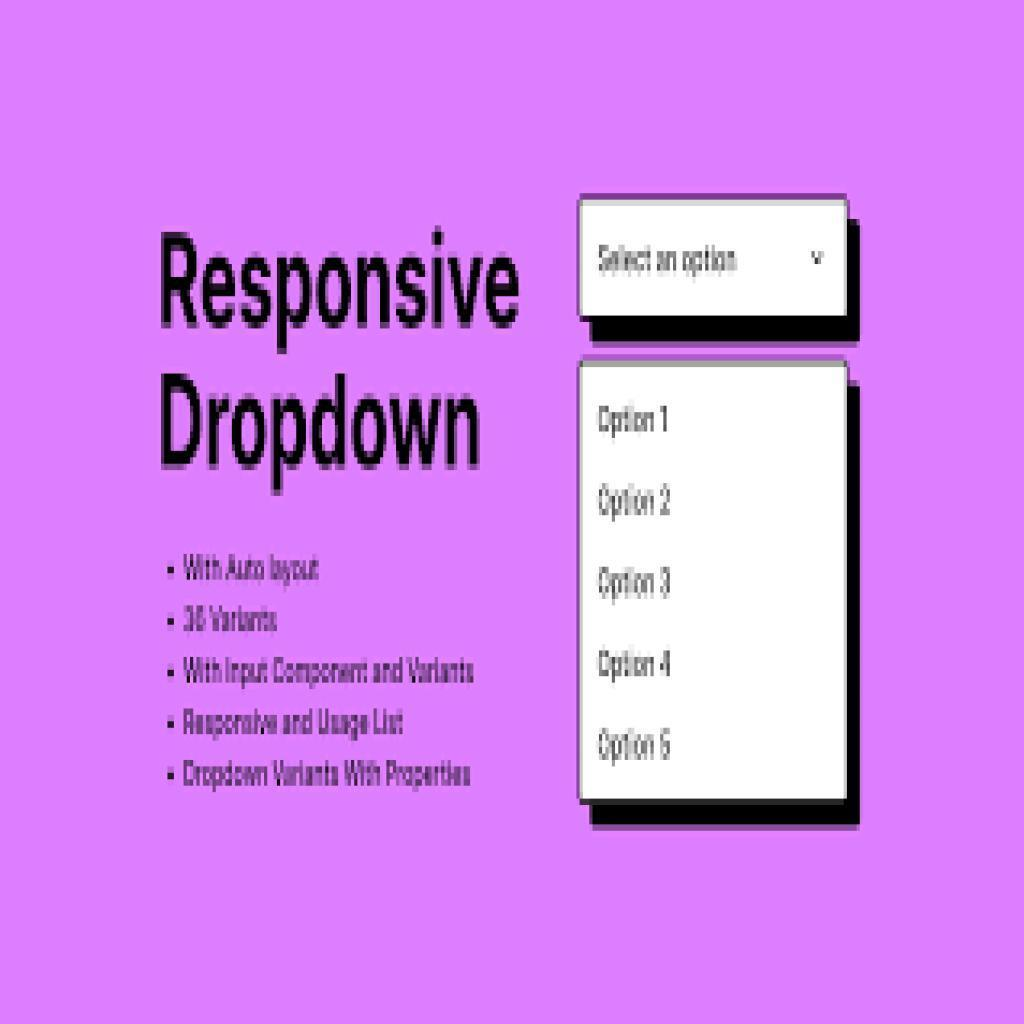dropdown: (575, 193, 849, 321)
